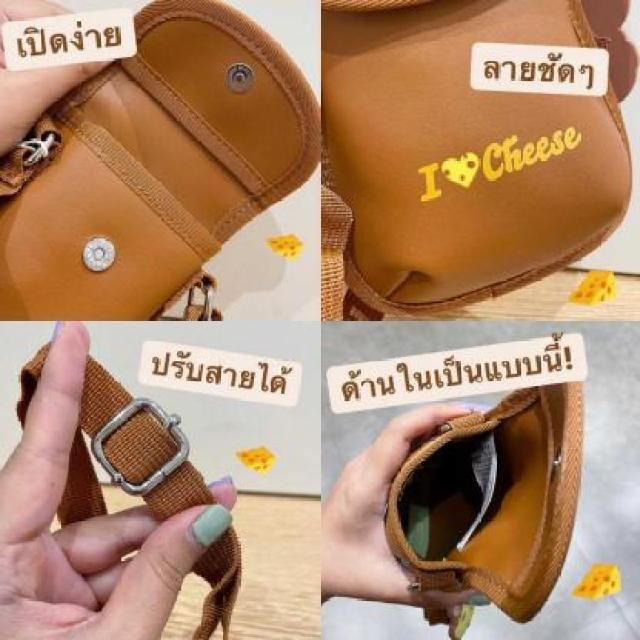Bag: (0, 0, 323, 325)
